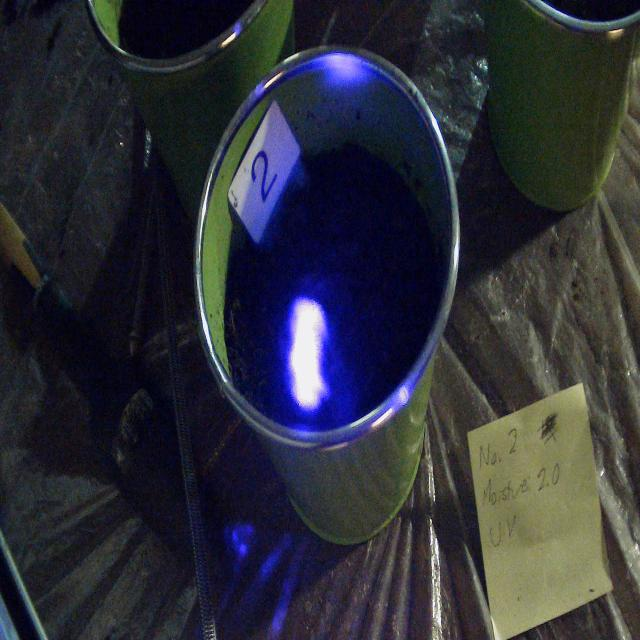soil-moisture-2.0: (281, 295, 330, 408)
